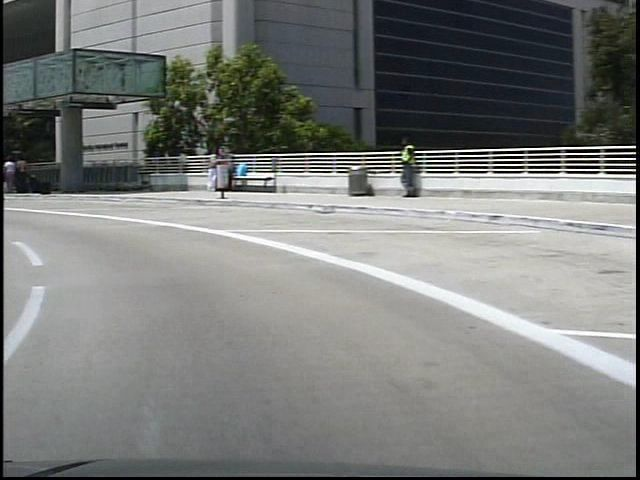person: (389, 145, 414, 212), (7, 154, 20, 194)
